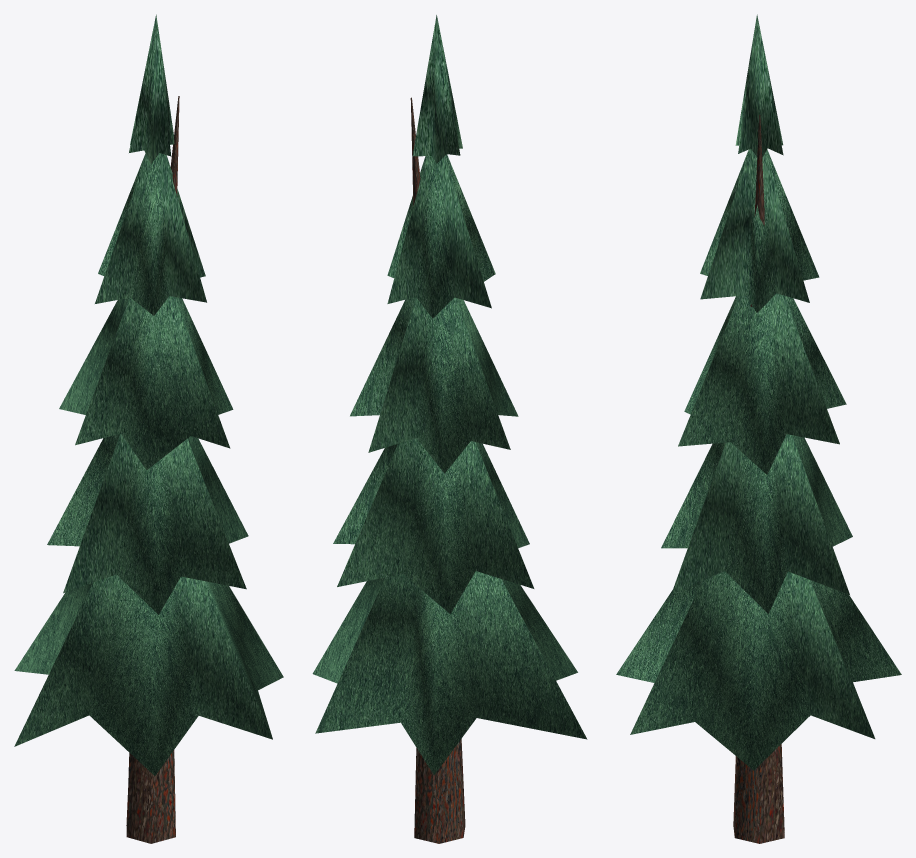
Rendered from pine_1_lod1.glb.
3 views of the same model, side by side, from view 1: azimuth 30°, elevation 25°; view 2: azimuth 150°, elevation 25°; view 3: azimuth 270°, elevation 25° (orthographic).
Parts seen in each view (by area): view 1: pine_1_lod1; view 2: pine_1_lod1; view 3: pine_1_lod1.
Part boxes in pixels (x1,y1,x2,y2): pine_1_lod1: (14, 14, 283, 843); pine_1_lod1: (312, 15, 587, 843); pine_1_lod1: (616, 14, 901, 843).
Bounding box in the file's own units: 4.58 × 13.13 × 4.15.
2 materials, 2 textured.
